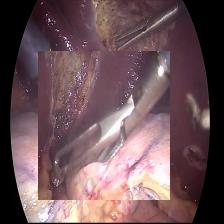Grasper: (39, 52, 170, 200), (109, 1, 180, 71)
